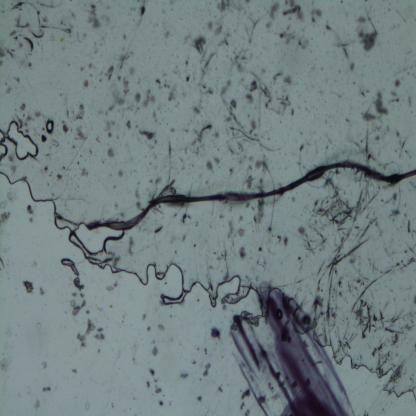Air bubble: (69, 231, 250, 306), (0, 167, 86, 233), (337, 352, 416, 406), (6, 120, 38, 161), (58, 256, 82, 277), (0, 126, 8, 160), (43, 119, 56, 134)
Background material: (221, 81, 274, 157), (362, 262, 401, 294), (357, 298, 385, 339), (356, 126, 377, 164), (229, 52, 258, 78), (386, 306, 414, 332), (336, 34, 356, 70), (304, 228, 328, 258), (76, 315, 96, 348), (275, 22, 297, 48), (200, 47, 219, 76), (358, 27, 380, 52), (106, 84, 125, 112), (282, 1, 307, 22), (346, 274, 367, 298), (374, 87, 390, 117), (396, 130, 412, 160), (382, 328, 406, 348), (399, 244, 416, 272), (8, 25, 24, 53), (16, 110, 42, 127), (242, 19, 258, 46), (323, 300, 341, 324), (116, 46, 134, 70), (338, 328, 354, 354), (392, 361, 408, 385), (196, 123, 213, 145), (88, 4, 102, 30), (277, 95, 294, 116), (220, 247, 231, 279), (22, 34, 38, 56), (194, 34, 209, 57), (230, 216, 246, 237), (142, 86, 157, 108), (207, 17, 224, 36), (110, 347, 124, 370), (166, 81, 180, 104), (308, 4, 324, 23), (74, 125, 90, 144), (182, 139, 203, 153), (362, 109, 380, 125), (0, 356, 15, 375), (208, 322, 223, 340), (256, 200, 266, 226), (67, 299, 81, 317), (93, 327, 107, 345), (271, 65, 284, 84), (298, 139, 307, 166), (103, 66, 116, 84), (21, 277, 34, 295), (357, 12, 373, 26), (138, 128, 154, 142), (201, 80, 215, 96), (0, 210, 13, 227), (105, 280, 120, 294), (126, 236, 136, 257), (0, 45, 15, 59), (147, 177, 162, 191), (216, 0, 233, 12), (267, 2, 278, 20), (134, 188, 143, 210), (16, 12, 27, 30), (235, 244, 249, 258), (203, 360, 213, 379), (76, 103, 86, 121), (314, 273, 323, 292), (404, 62, 414, 79), (239, 387, 253, 399), (72, 277, 84, 291), (253, 158, 267, 170), (106, 120, 118, 134), (299, 36, 310, 51), (152, 106, 160, 126), (59, 123, 72, 135), (132, 89, 142, 104), (244, 89, 254, 104), (245, 172, 253, 190), (154, 74, 163, 90), (65, 106, 76, 119), (392, 90, 402, 104), (146, 363, 156, 377), (390, 208, 400, 222), (220, 34, 230, 48), (79, 291, 87, 308), (390, 189, 398, 206), (370, 347, 382, 358), (180, 211, 191, 223), (167, 138, 173, 160), (192, 104, 202, 116), (106, 147, 116, 159), (153, 224, 165, 234), (144, 378, 152, 392), (124, 79, 131, 95), (372, 126, 386, 134), (26, 204, 36, 215), (406, 178, 416, 189), (323, 21, 333, 32), (213, 156, 223, 167), (114, 72, 124, 83), (40, 133, 49, 145), (205, 162, 214, 174), (249, 80, 258, 92), (0, 194, 6, 212), (247, 119, 256, 131), (123, 105, 138, 112), (34, 397, 42, 410), (372, 132, 382, 142), (156, 322, 166, 332), (359, 87, 368, 98), (112, 199, 121, 210), (126, 118, 133, 132), (285, 74, 293, 86), (220, 300, 228, 312), (150, 347, 160, 356), (2, 84, 12, 93), (154, 386, 165, 394), (230, 97, 238, 108), (42, 386, 53, 394), (0, 258, 6, 272), (138, 6, 147, 15), (195, 394, 204, 403), (394, 79, 403, 88), (265, 22, 273, 32), (40, 358, 48, 368), (19, 102, 27, 112), (180, 372, 190, 380), (237, 403, 245, 413), (84, 62, 94, 70), (38, 286, 46, 296), (406, 96, 413, 107), (84, 77, 90, 89), (217, 385, 225, 394), (276, 232, 282, 244), (300, 226, 308, 235), (350, 258, 359, 266), (184, 74, 192, 83), (80, 167, 88, 176), (14, 74, 22, 83), (168, 126, 177, 134), (158, 398, 165, 408), (411, 292, 416, 306), (115, 169, 122, 179), (284, 236, 289, 249), (290, 194, 298, 202), (217, 213, 226, 220), (164, 30, 171, 39), (191, 355, 197, 365), (26, 60, 32, 70), (57, 171, 63, 181), (229, 167, 235, 177), (243, 407, 250, 415), (141, 314, 148, 322), (338, 290, 345, 298), (257, 258, 264, 266), (180, 233, 188, 240), (153, 137, 160, 145), (255, 275, 261, 283), (297, 278, 305, 284), (28, 216, 34, 224), (54, 139, 60, 147), (47, 152, 53, 160), (407, 218, 410, 233), (146, 326, 151, 334), (123, 32, 128, 40), (69, 10, 74, 18), (96, 348, 102, 354), (258, 246, 264, 252), (109, 303, 115, 309), (204, 347, 208, 355), (338, 280, 342, 288), (72, 368, 76, 376), (186, 58, 190, 66), (250, 204, 255, 210), (61, 165, 67, 170), (43, 166, 49, 171), (60, 38, 65, 44), (79, 66, 84, 72), (120, 210, 124, 217), (195, 347, 200, 352), (246, 203, 251, 208), (379, 198, 384, 203), (106, 133, 111, 138), (85, 310, 91, 314), (50, 171, 54, 176), (298, 256, 302, 260), (214, 250, 218, 254), (196, 220, 198, 228), (121, 320, 124, 324), (77, 161, 80, 165), (194, 243, 196, 247), (149, 163, 152, 165)
Glass filter fibre: (310, 183, 379, 234), (326, 232, 352, 344), (4, 2, 45, 22), (35, 23, 72, 35), (262, 162, 276, 190), (320, 171, 336, 186), (270, 199, 276, 231), (35, 322, 44, 340), (84, 398, 91, 410)
Microfibre: (84, 159, 416, 232)
Pen: (225, 282, 358, 416)
